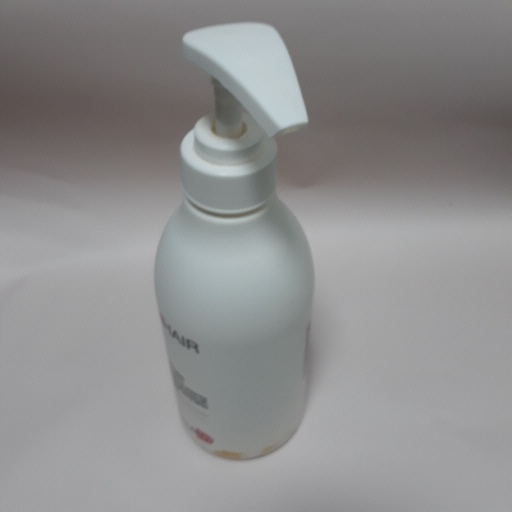Plastic_3: (152, 20, 319, 458)
